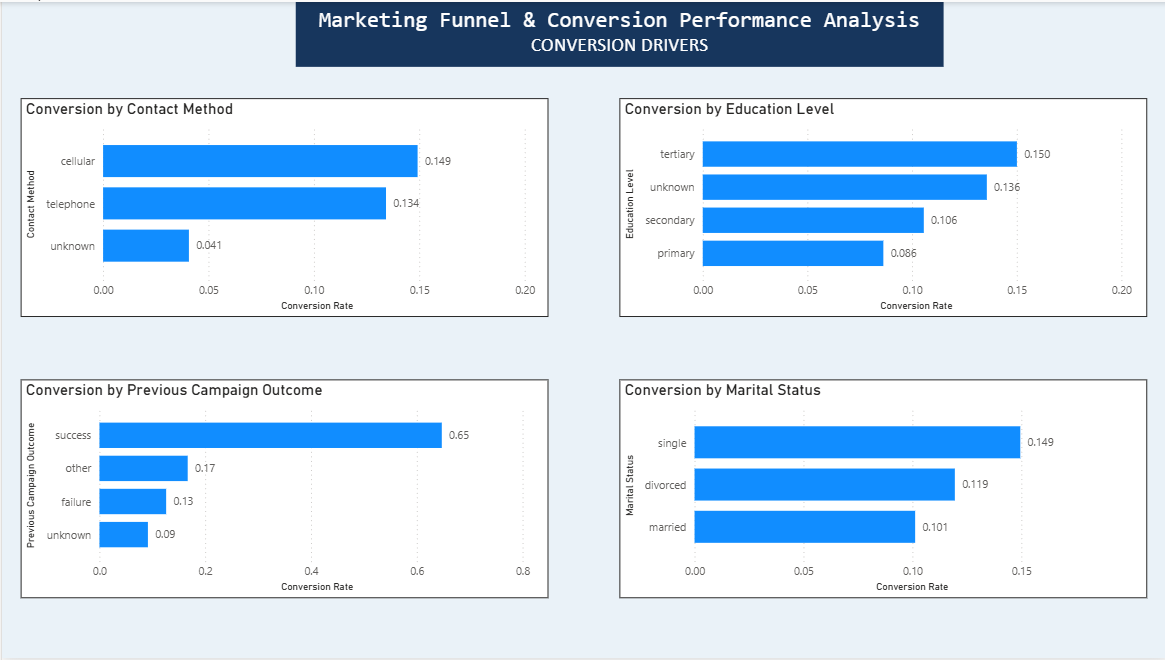

The page's visual inventory and layout, read from the dashboard file:
{"tool":"powerbi","page":{"name":"Conversion Drivers","canvas":[1280,720],"ordinal":1},"visuals":[{"type":"textbox","box":[322.5,0,710.8,71.4],"z":0},{"type":"clusteredBarChart","title":"Conversion by Contact Method","fields":{"Category":["bank_marketing_cleaned.Contact Method"],"Y":["bank_marketing_cleaned.Conversion Rate"]},"box":[20.6,105.7,579.1,240.1],"z":1},{"type":"clusteredBarChart","title":"Conversion by Education Level","fields":{"Y":["bank_marketing_cleaned.Conversion Rate"],"Category":["bank_marketing_cleaned.Education Level"]},"box":[677.9,105.7,579.1,240.1],"z":2},{"type":"clusteredBarChart","title":"Conversion by Previous Campaign Outcome","fields":{"Y":["bank_marketing_cleaned.Conversion Rate"],"Category":["bank_marketing_cleaned.Previous Campaign Outcome"]},"box":[20.6,414.4,579.1,240.1],"z":3},{"type":"clusteredBarChart","title":"Conversion by Marital Status","fields":{"Y":["bank_marketing_cleaned.Conversion Rate"],"Category":["bank_marketing_cleaned.Marital Status"]},"box":[678,414,579,240],"z":4}]}

Visuals, with their boxes in screenshot pixels (x1, y1, x2, y2), scaled from the page's 1280x720 canvas onto the 1165x660 screenshot:
textbox: <bbox>294, 0, 940, 65</bbox>
"Conversion by Contact Method" clusteredBarChart: <bbox>19, 97, 546, 317</bbox>
"Conversion by Education Level" clusteredBarChart: <bbox>617, 97, 1144, 317</bbox>
"Conversion by Previous Campaign Outcome" clusteredBarChart: <bbox>19, 380, 546, 600</bbox>
"Conversion by Marital Status" clusteredBarChart: <bbox>617, 380, 1144, 600</bbox>
